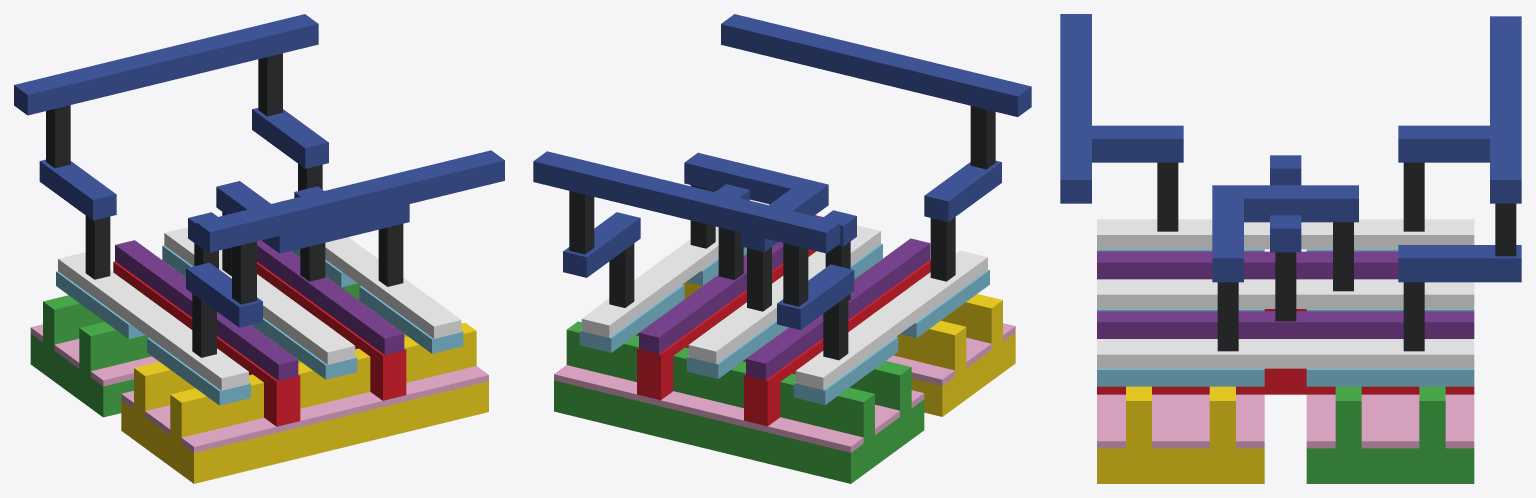
Rendered from 5nand.obj.
3 renders of one model, left to right at view 1: azimuth 30°, elevation 25°; view 2: azimuth 150°, elevation 25°; view 3: azimuth 270°, elevation 25°, orthographic. The views are drawn at different scales.
Visible parts, largest first — view 1: group_0_3888547, group_0_16768282, group_0_16448250, group_0_2829873, group_0_8273816, group_0_4634441, group_0_8768998, group_0_15708628, group_0_15277357; view 2: group_0_3888547, group_0_4634441, group_0_16448250, group_0_2829873, group_0_8273816, group_0_16768282, group_0_8768998, group_0_15708628, group_0_15277357; view 3: group_0_3888547, group_0_16448250, group_0_8273816, group_0_15708628, group_0_2829873, group_0_4634441, group_0_16768282, group_0_8768998, group_0_15277357.
Boxes of the visible parts, box(x1,y1,x2,y2) form: group_0_3888547: box(14, 14, 504, 327); group_0_16768282: box(121, 315, 488, 483); group_0_16448250: box(58, 227, 461, 390); group_0_2829873: box(46, 53, 403, 357); group_0_8273816: box(115, 240, 404, 380); group_0_4634441: box(30, 237, 360, 417); group_0_8768998: box(56, 245, 463, 405); group_0_15708628: box(30, 324, 488, 452); group_0_15277357: box(113, 261, 406, 426); group_0_3888547: box(533, 14, 1031, 329); group_0_4634441: box(554, 318, 924, 483); group_0_16448250: box(581, 199, 987, 389); group_0_2829873: box(569, 106, 995, 360); group_0_8273816: box(639, 215, 930, 380); group_0_16768282: box(680, 269, 1015, 416); group_0_8768998: box(579, 243, 989, 404); group_0_15708628: box(554, 323, 1015, 452); group_0_15277357: box(637, 249, 930, 426); group_0_3888547: box(1060, 14, 1521, 282); group_0_16448250: box(1097, 219, 1474, 368); group_0_8273816: box(1097, 251, 1474, 338); group_0_15708628: box(1097, 394, 1474, 448); group_0_2829873: box(1157, 162, 1516, 351); group_0_4634441: box(1306, 386, 1474, 483); group_0_16768282: box(1097, 386, 1264, 483); group_0_8768998: box(1097, 249, 1474, 386); group_0_15277357: box(1097, 309, 1474, 394).
Bounding box in the file's own units: 150 × 128 × 176.
